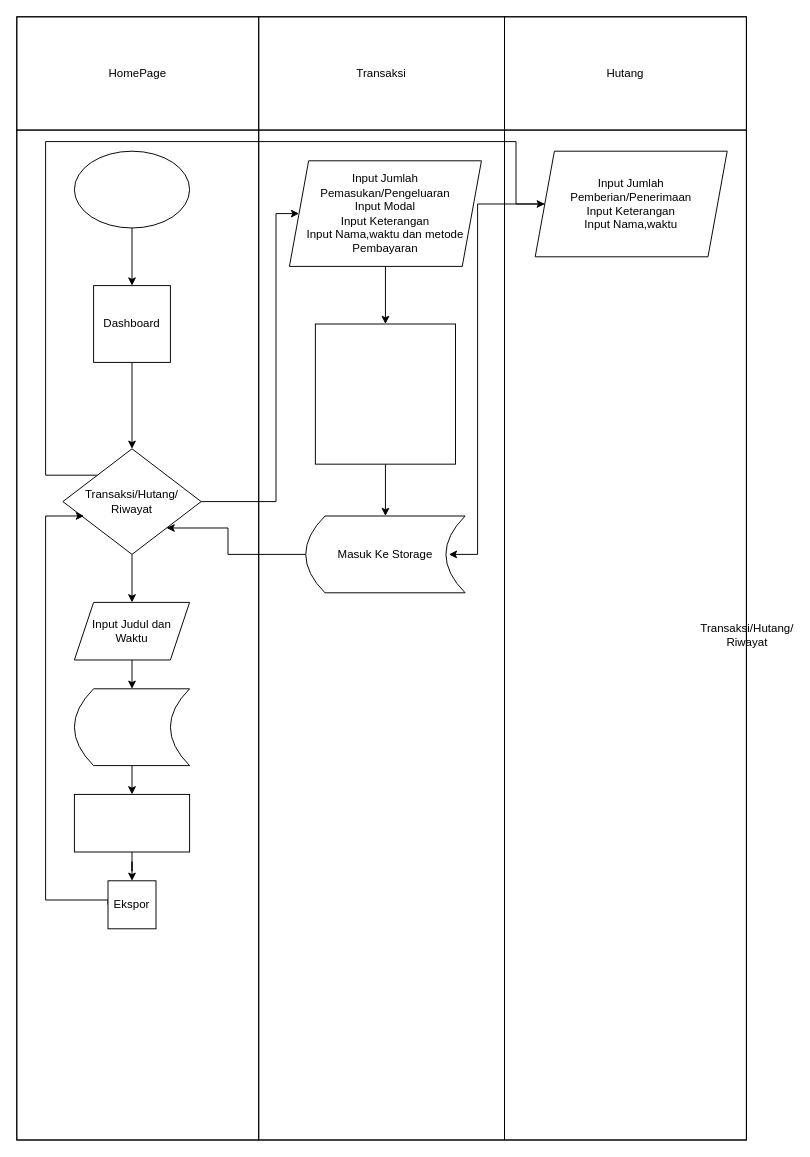
Some shapes in this 810 by 1157 pixel diagram are drawn without their labels. The box of each missing label's shape, as (x1, y1, x2, y2) in pixels:
Cek Storage: (73, 688, 190, 766)
Hitung jumlah data di Storage dari waktu yang ditentukan: (73, 793, 190, 852)
Keuntungan=Pemasukan-Modal: (314, 323, 456, 464)
Start: (73, 150, 190, 228)
